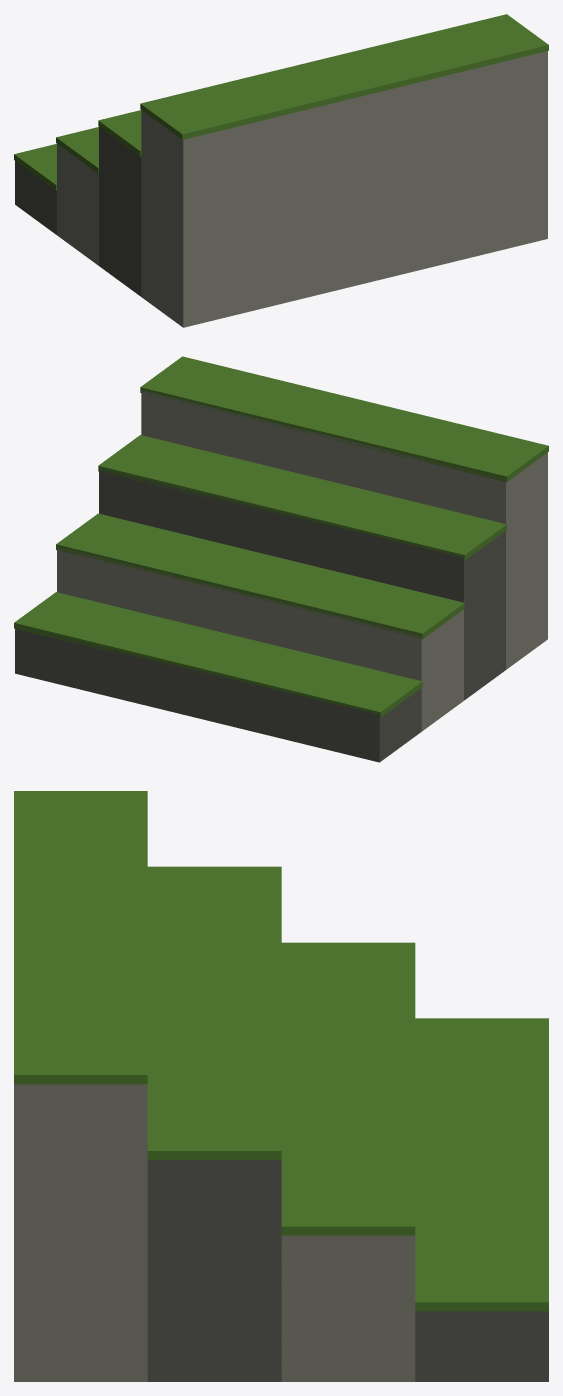
File: stairs.glb
The picture shows the model from 3 angles, top to bottom: view 1: azimuth 30°, elevation 25°; view 2: azimuth 150°, elevation 25°; view 3: azimuth 270°, elevation 25°; orthographic projection. The views are drawn at different scales.
Visible parts, largest first — view 1: stone-col, moss, stone_dark-col; view 2: moss, stone-col, stone_dark-col; view 3: moss, stone-col, stone_dark-col.
Boxes of the visible parts, bbox=[...] form: stone-col: bbox=[57, 51, 547, 327]; moss: bbox=[14, 14, 548, 190]; stone_dark-col: bbox=[15, 127, 141, 296]; moss: bbox=[14, 356, 548, 717]; stone-col: bbox=[57, 390, 547, 731]; stone_dark-col: bbox=[15, 469, 505, 762]; moss: bbox=[14, 791, 548, 1311]; stone-col: bbox=[14, 1084, 415, 1381]; stone_dark-col: bbox=[147, 1160, 548, 1381].
Size of what is drawn, in the model's own units: 4.02 by 2.03 by 3.2.
